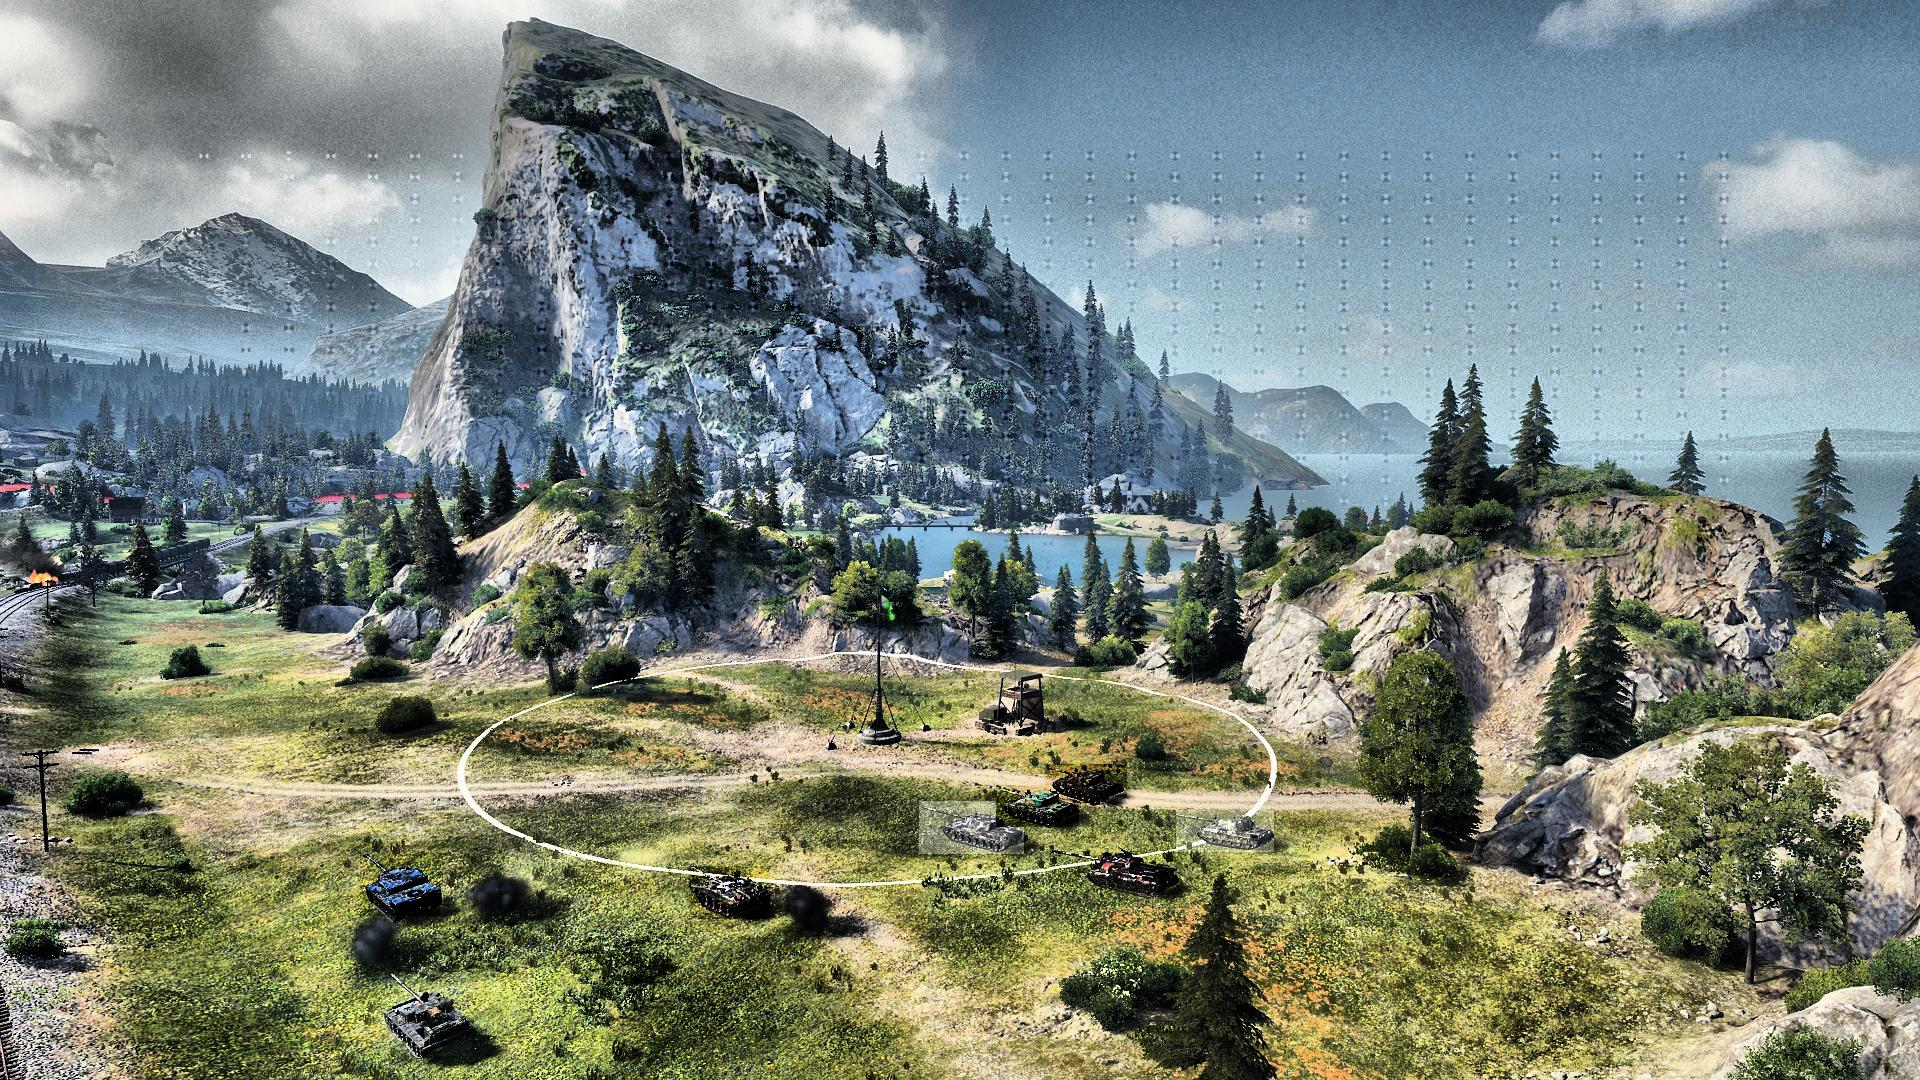military-vehicle: (382, 973, 472, 1056), (1050, 852, 1183, 897), (919, 802, 1025, 855), (360, 855, 442, 916), (690, 866, 770, 919), (1176, 811, 1274, 853), (997, 786, 1080, 828), (1046, 765, 1127, 804)
